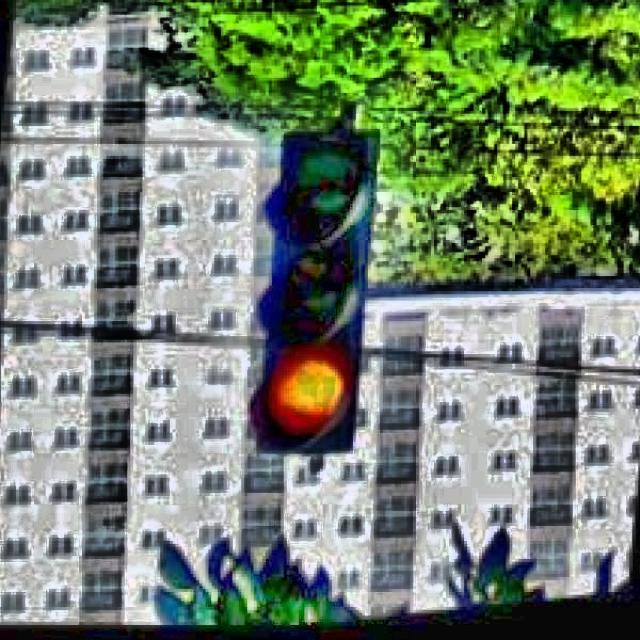red: (251, 130, 373, 458)
